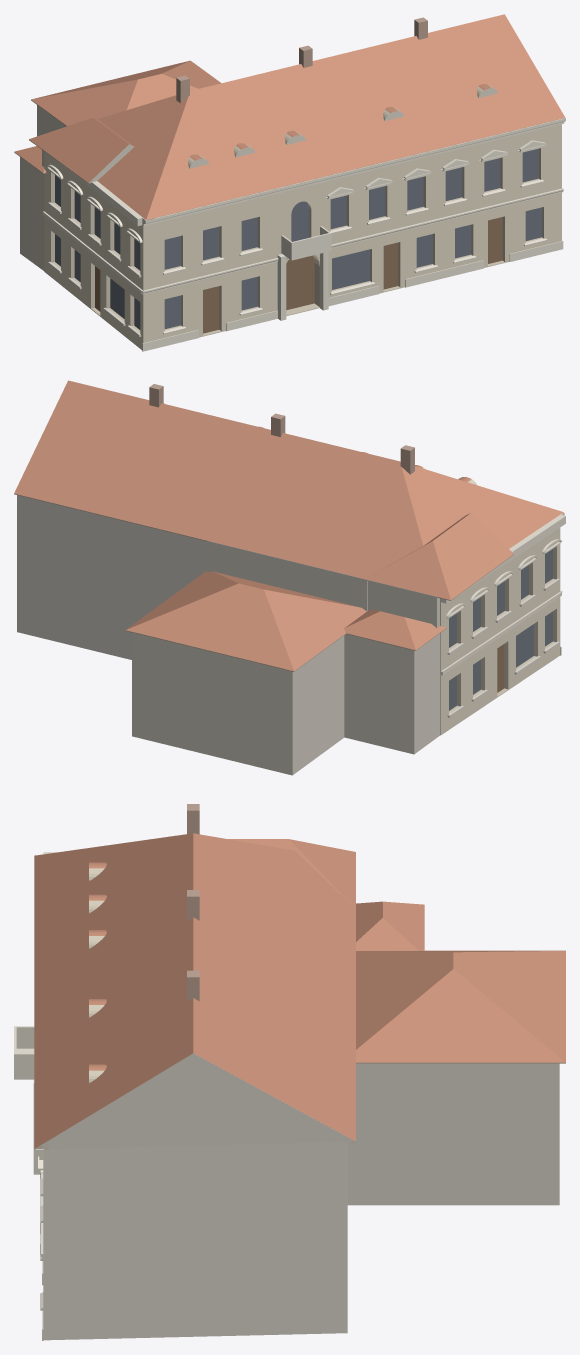
3 renders of one model, top to bottom at view 1: azimuth 30°, elevation 25°; view 2: azimuth 150°, elevation 25°; view 3: azimuth 270°, elevation 25°, orthographic. The views are drawn at different scales.
Parts seen in each view (by area): view 1: CP_247_Masonry, CP_247_Roof, CP_247_WingRoof_Rear_Build, CP_247_WingRoof_Square, CP_247_Cornice_main_0, CP_247_Rear_N, CP_247_Cornice_string_0, CP_247_Cornice_square_main, CP_247_Cornice_plinth_3, CP_247_Balcony_Rail_F, CP_247_Portal_Pillar_L, CP_247_Cornice_square_string (+6 smaller); view 2: CP_247_Roof, CP_247_Masonry, CP_247_Rear_Build, CP_247_WingRoof_Rear_Build, CP_247_Rear_N, CP_247_WingRoof_Square, CP_247_AtticClosure_2, CP_247_WingRoof_Rear_N, CP_247_AtticClosure_1, CP_247_Cornice_square_main, CP_247_Cornice_square_string; view 3: CP_247_Roof, CP_247_Masonry, CP_247_Rear_Build, CP_247_WingRoof_Rear_Build, CP_247_Gable_R_gable, CP_247_WingRoof_Rear_N, CP_247_WingRoof_Square.
Boxes of the visible parts, box(x1,y1,x2,y2) form: CP_247_Masonry: box(44, 124, 561, 349); CP_247_Roof: box(97, 14, 565, 219); CP_247_WingRoof_Rear_Build: box(31, 60, 221, 125); CP_247_WingRoof_Square: box(29, 117, 134, 182); CP_247_Cornice_main_0: box(142, 117, 565, 225); CP_247_Rear_N: box(20, 157, 44, 270); CP_247_Cornice_string_0: box(142, 188, 563, 294); CP_247_Cornice_square_main: box(48, 154, 142, 225); CP_247_Cornice_plinth_3: box(405, 260, 483, 287); CP_247_Balcony_Rail_F: box(290, 232, 331, 257); CP_247_Portal_Pillar_L: box(277, 254, 286, 320); CP_247_Cornice_square_string: box(43, 211, 142, 294); CP_247_Roof: box(14, 380, 563, 578); CP_247_Masonry: box(17, 495, 560, 735); CP_247_Rear_Build: box(132, 632, 344, 775); CP_247_WingRoof_Rear_Build: box(126, 571, 366, 670); CP_247_Rear_N: box(344, 633, 440, 754); CP_247_WingRoof_Square: box(365, 513, 513, 599); CP_247_AtticClosure_2: box(207, 541, 367, 611); CP_247_WingRoof_Rear_N: box(344, 609, 446, 650); CP_247_AtticClosure_1: box(367, 580, 439, 627); CP_247_Cornice_square_main: box(441, 514, 565, 603); CP_247_Cornice_square_string: box(441, 591, 561, 675); CP_247_Roof: box(34, 833, 355, 1148); CP_247_Masonry: box(43, 1142, 347, 1340); CP_247_Rear_Build: box(347, 1063, 559, 1205); CP_247_WingRoof_Rear_Build: box(356, 950, 565, 1062); CP_247_Gable_R_gable: box(34, 1053, 355, 1149); CP_247_WingRoof_Rear_N: box(356, 901, 424, 950); CP_247_WingRoof_Square: box(228, 839, 355, 908).
Size of the model in its own units: 27.67 by 13.2 by 21.7.
